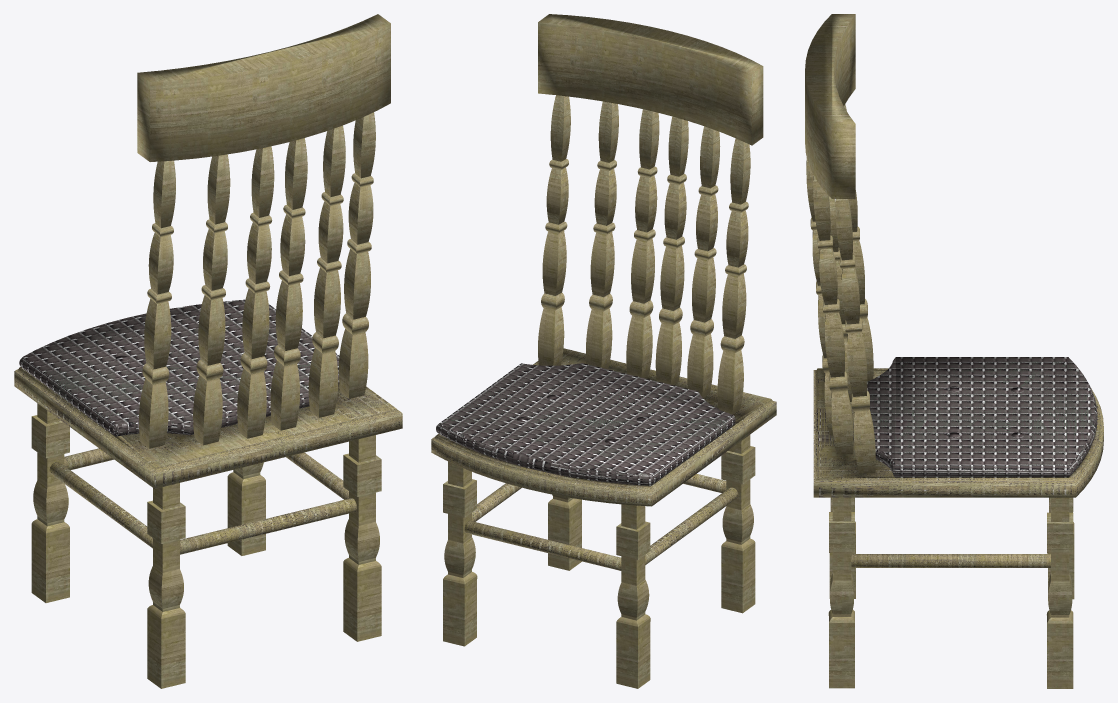
3 renders of one model, left to right at view 1: azimuth 30°, elevation 25°; view 2: azimuth 150°, elevation 25°; view 3: azimuth 270°, elevation 25°, orthographic. The views are drawn at different scales.
Visible parts, largest first — view 1: mesh2_mesh2-geometry, mesh3_mesh3-geometry, mesh5_mesh5-geometry, mesh1_mesh1-geometry, mesh8_mesh8-geometry, mesh4_mesh4-geometry, mesh7_mesh7-geometry, mesh6_mesh6-geometry; view 2: mesh2_mesh2-geometry, mesh3_mesh3-geometry, mesh5_mesh5-geometry, mesh1_mesh1-geometry, mesh6_mesh6-geometry, mesh4_mesh4-geometry, mesh7_mesh7-geometry; view 3: mesh3_mesh3-geometry, mesh2_mesh2-geometry, mesh1_mesh1-geometry, mesh5_mesh5-geometry, mesh7_mesh7-geometry.
Part boxes in pixels (x1,y1,x2,y2): mesh2_mesh2-geometry: [139, 112, 375, 448]; mesh3_mesh3-geometry: [14, 299, 402, 488]; mesh5_mesh5-geometry: [137, 14, 390, 161]; mesh1_mesh1-geometry: [31, 403, 381, 688]; mesh8_mesh8-geometry: [180, 498, 356, 554]; mesh4_mesh4-geometry: [49, 462, 152, 548]; mesh7_mesh7-geometry: [286, 452, 348, 499]; mesh6_mesh6-geometry: [64, 448, 113, 470]; mesh2_mesh2-geometry: [538, 95, 750, 414]; mesh3_mesh3-geometry: [431, 348, 776, 506]; mesh5_mesh5-geometry: [538, 14, 763, 145]; mesh1_mesh1-geometry: [443, 435, 755, 688]; mesh6_mesh6-geometry: [464, 520, 621, 570]; mesh4_mesh4-geometry: [645, 487, 738, 564]; mesh7_mesh7-geometry: [472, 483, 521, 521]; mesh3_mesh3-geometry: [813, 357, 1103, 497]; mesh2_mesh2-geometry: [806, 104, 875, 473]; mesh1_mesh1-geometry: [828, 497, 1074, 688]; mesh5_mesh5-geometry: [805, 14, 855, 198]; mesh7_mesh7-geometry: [851, 554, 1050, 567].
Size of the model in its own units: 0.3592 by 0.8428 by 0.4008.
